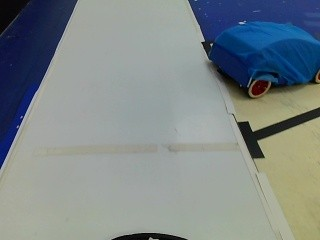car: (205, 19, 318, 99)
